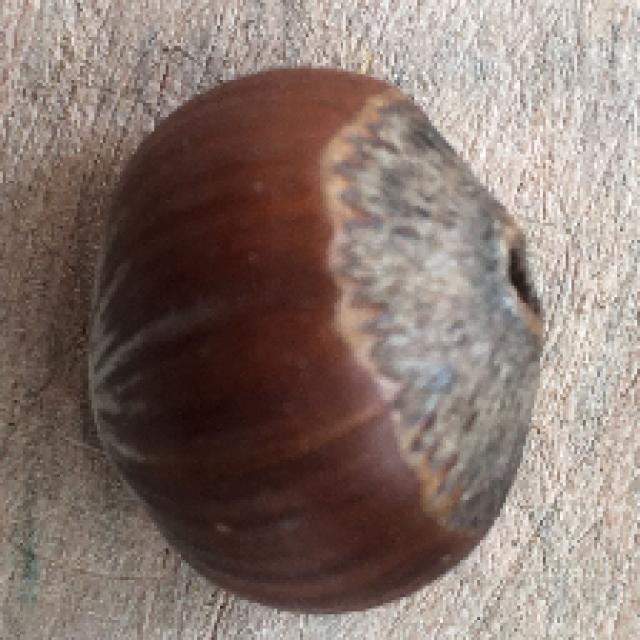damagedHazelnut: (77, 62, 549, 612)
